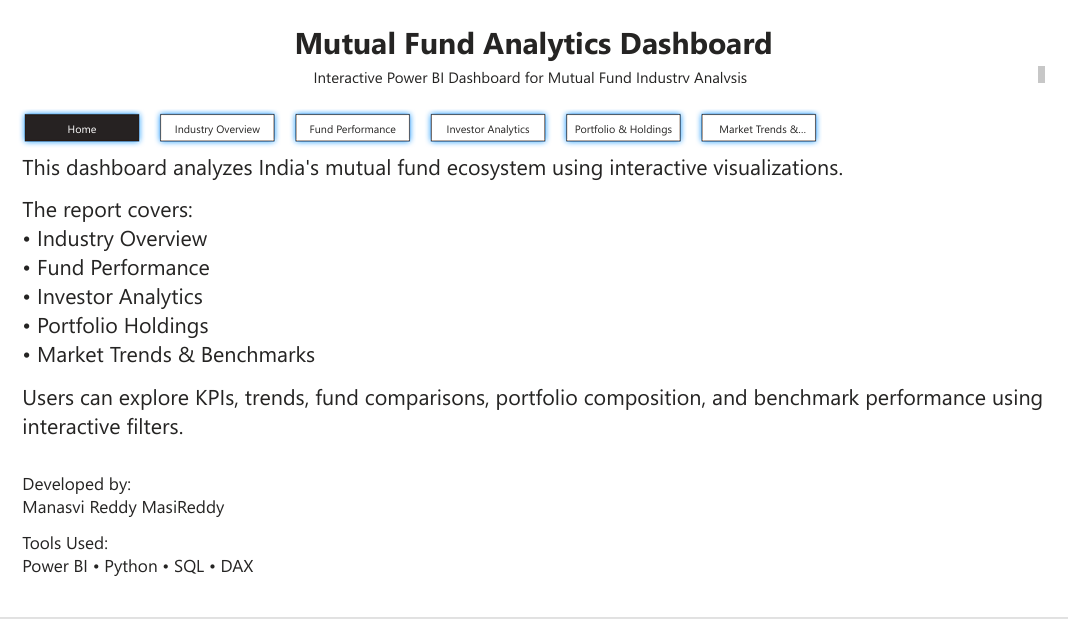

What the dashboard file says about the page in this screenshot:
{"tool":"powerbi","page":{"name":"Home","canvas":[1280,720],"ordinal":0},"visuals":[{"type":"textbox","box":[0,0,1279.2,72.2],"z":0},{"type":"textbox","box":[0,55.9,1279.2,30.3],"z":1000},{"type":"textbox","box":[0,559.2,433.4,160.8],"z":2000},{"type":"textbox","box":[0,160.8,1279.2,398.5],"z":3000},{"type":"pageNavigator","box":[0,111.8,1000,50],"z":4000}]}

Visuals, with their boxes in screenshot pixels (x1, y1, x2, y2), scaled from the page's 1280x720 canvas onto the 1068x619 screenshot:
textbox: 0, 0, 1067, 62
textbox: 0, 48, 1067, 74
textbox: 0, 481, 362, 618
textbox: 0, 138, 1067, 481
pageNavigator: 0, 96, 834, 139
